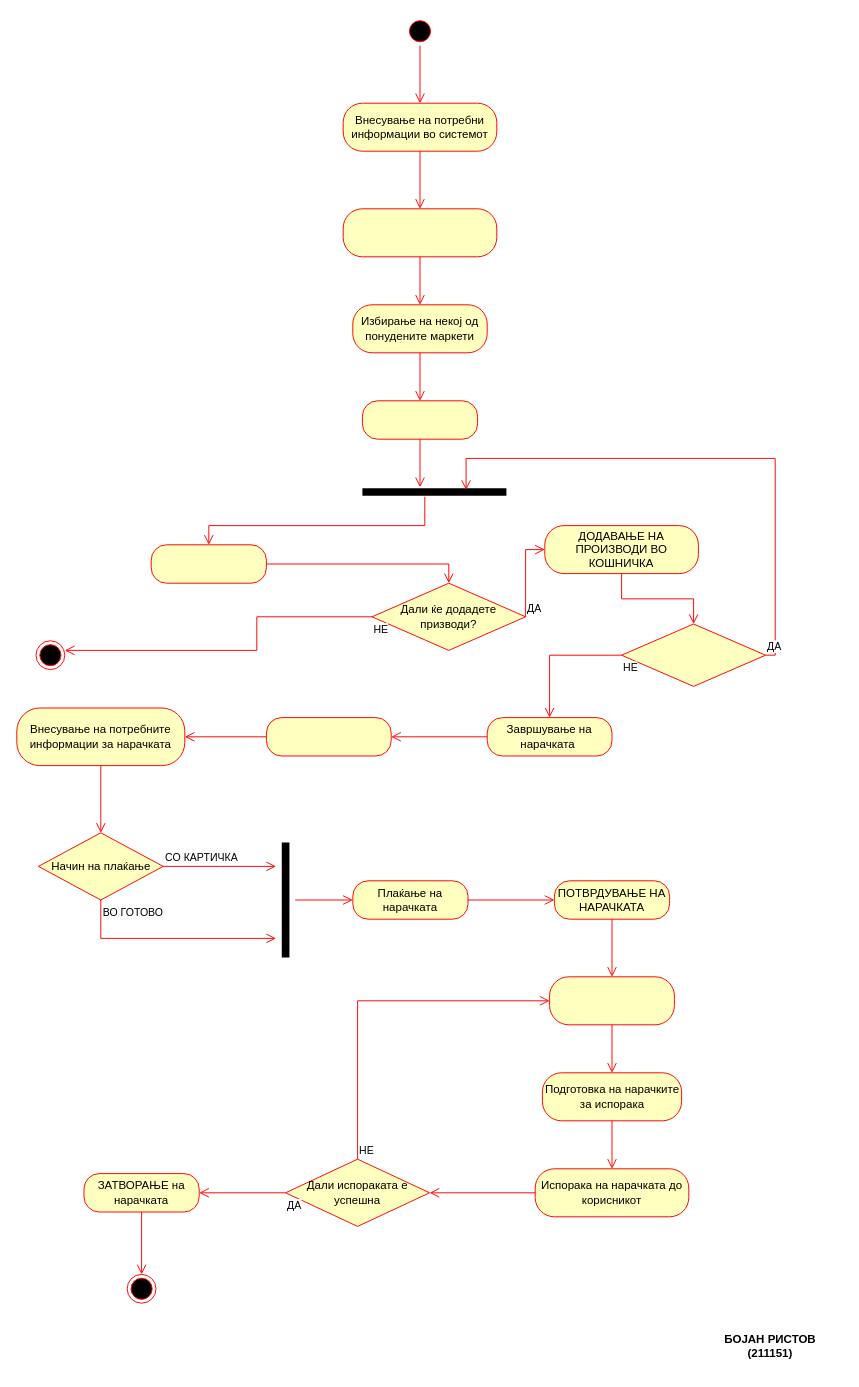
The diagram is 859 pixels wide and 1387 high, and some of its shapes have lost their labels. Each missing label, with the centre of its shape:
"Генерирање листа со маркети според рејтингот" goes at (x=419, y=232).
"КРЕИРАЊЕ НА НАРАЧКА" goes at (x=419, y=419).
"Преглед на производи" goes at (x=208, y=563).
"Претисни на копчето КУПИ" goes at (x=328, y=736).
"Проверка на информациите за нарачка" goes at (x=611, y=1000).
"Уште производи?" goes at (x=693, y=654).
